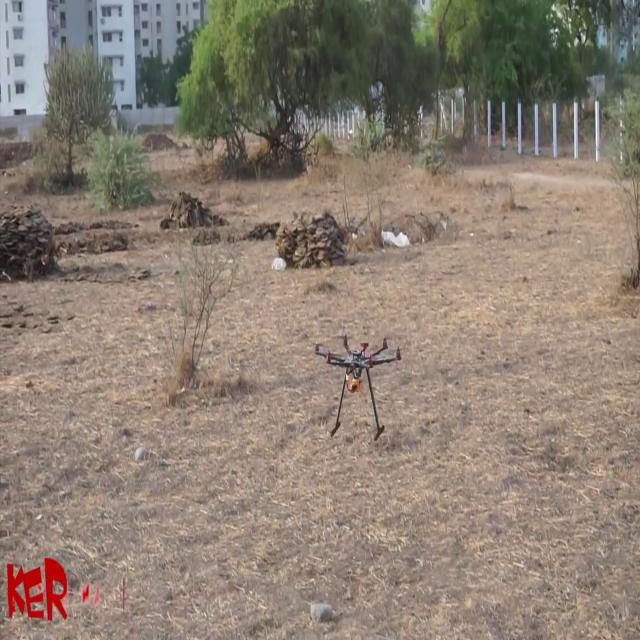drone: (296, 310, 404, 441)
